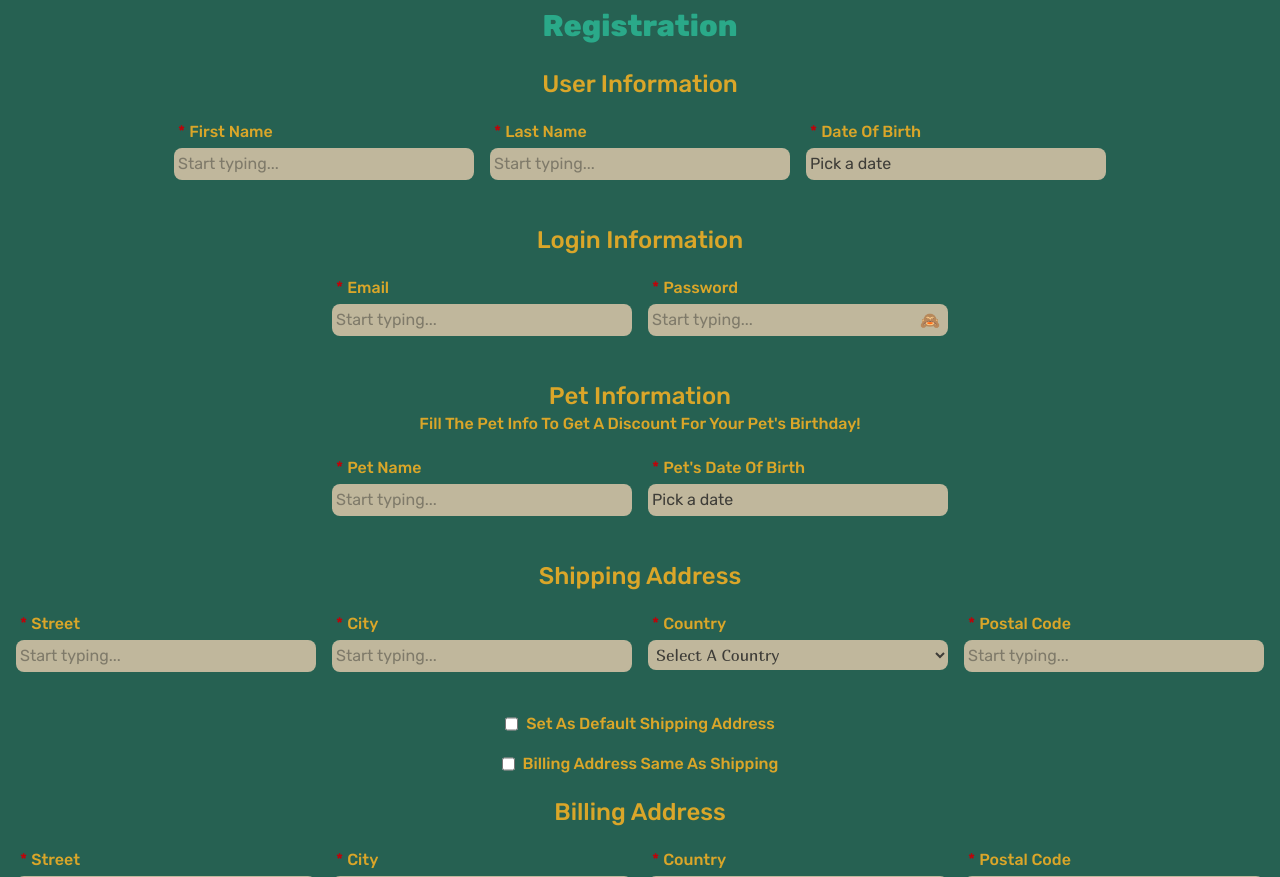
Test: RegistrationForm › Error: last name at least 1 character
Type "aaa  " into the field labelled "* last name" at point(640, 164), box [490,148,790,180]
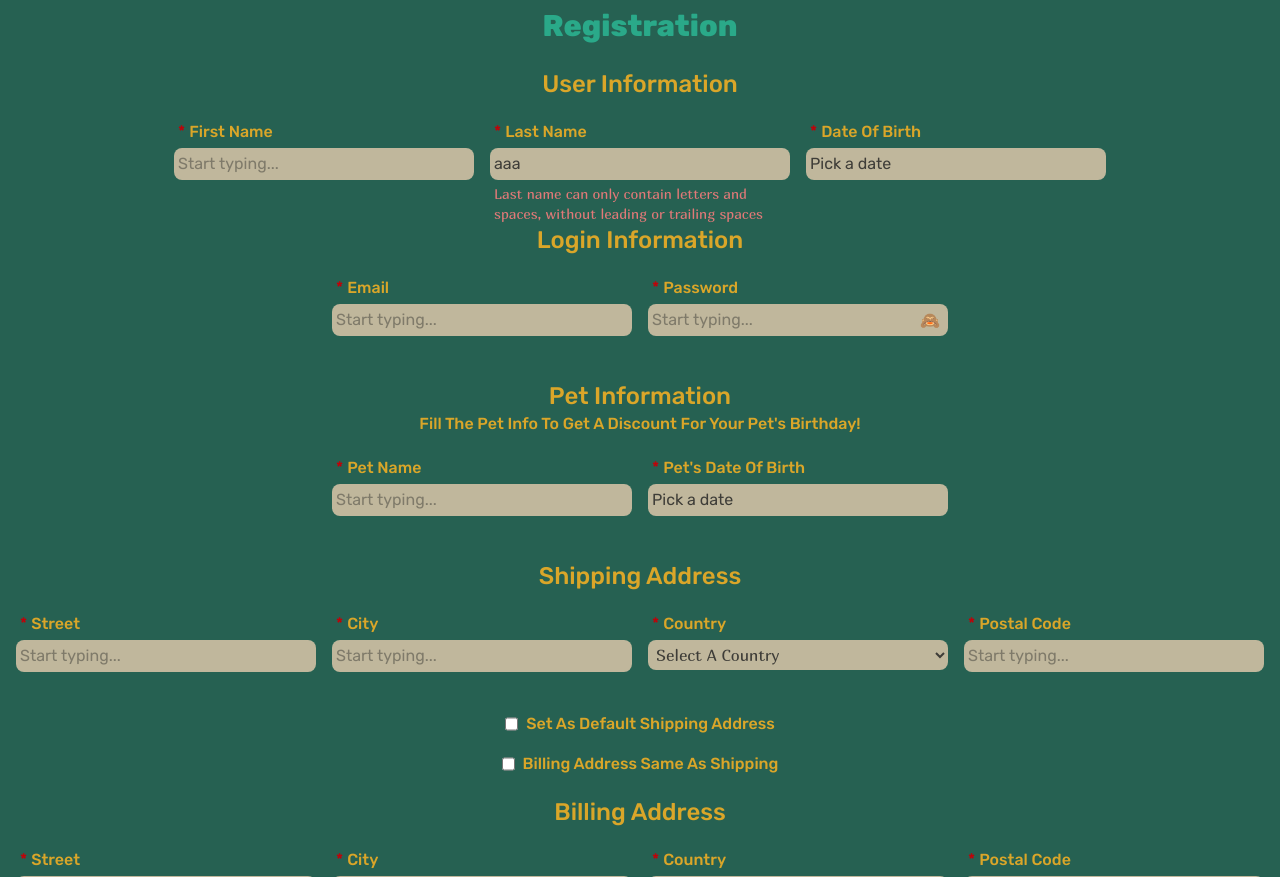
Result: the text "Last name can only contain letters and spaces, without leading or trailing spaces" is shown at [494,185,763,222]
